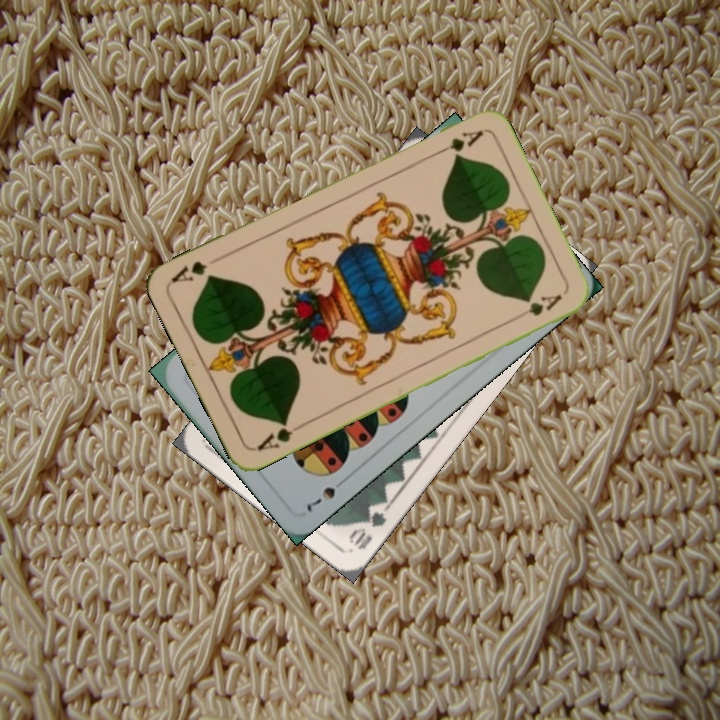G10: (344, 498, 392, 553)
GA: (253, 416, 307, 453), (430, 126, 486, 159)
S7: (302, 473, 350, 515)
